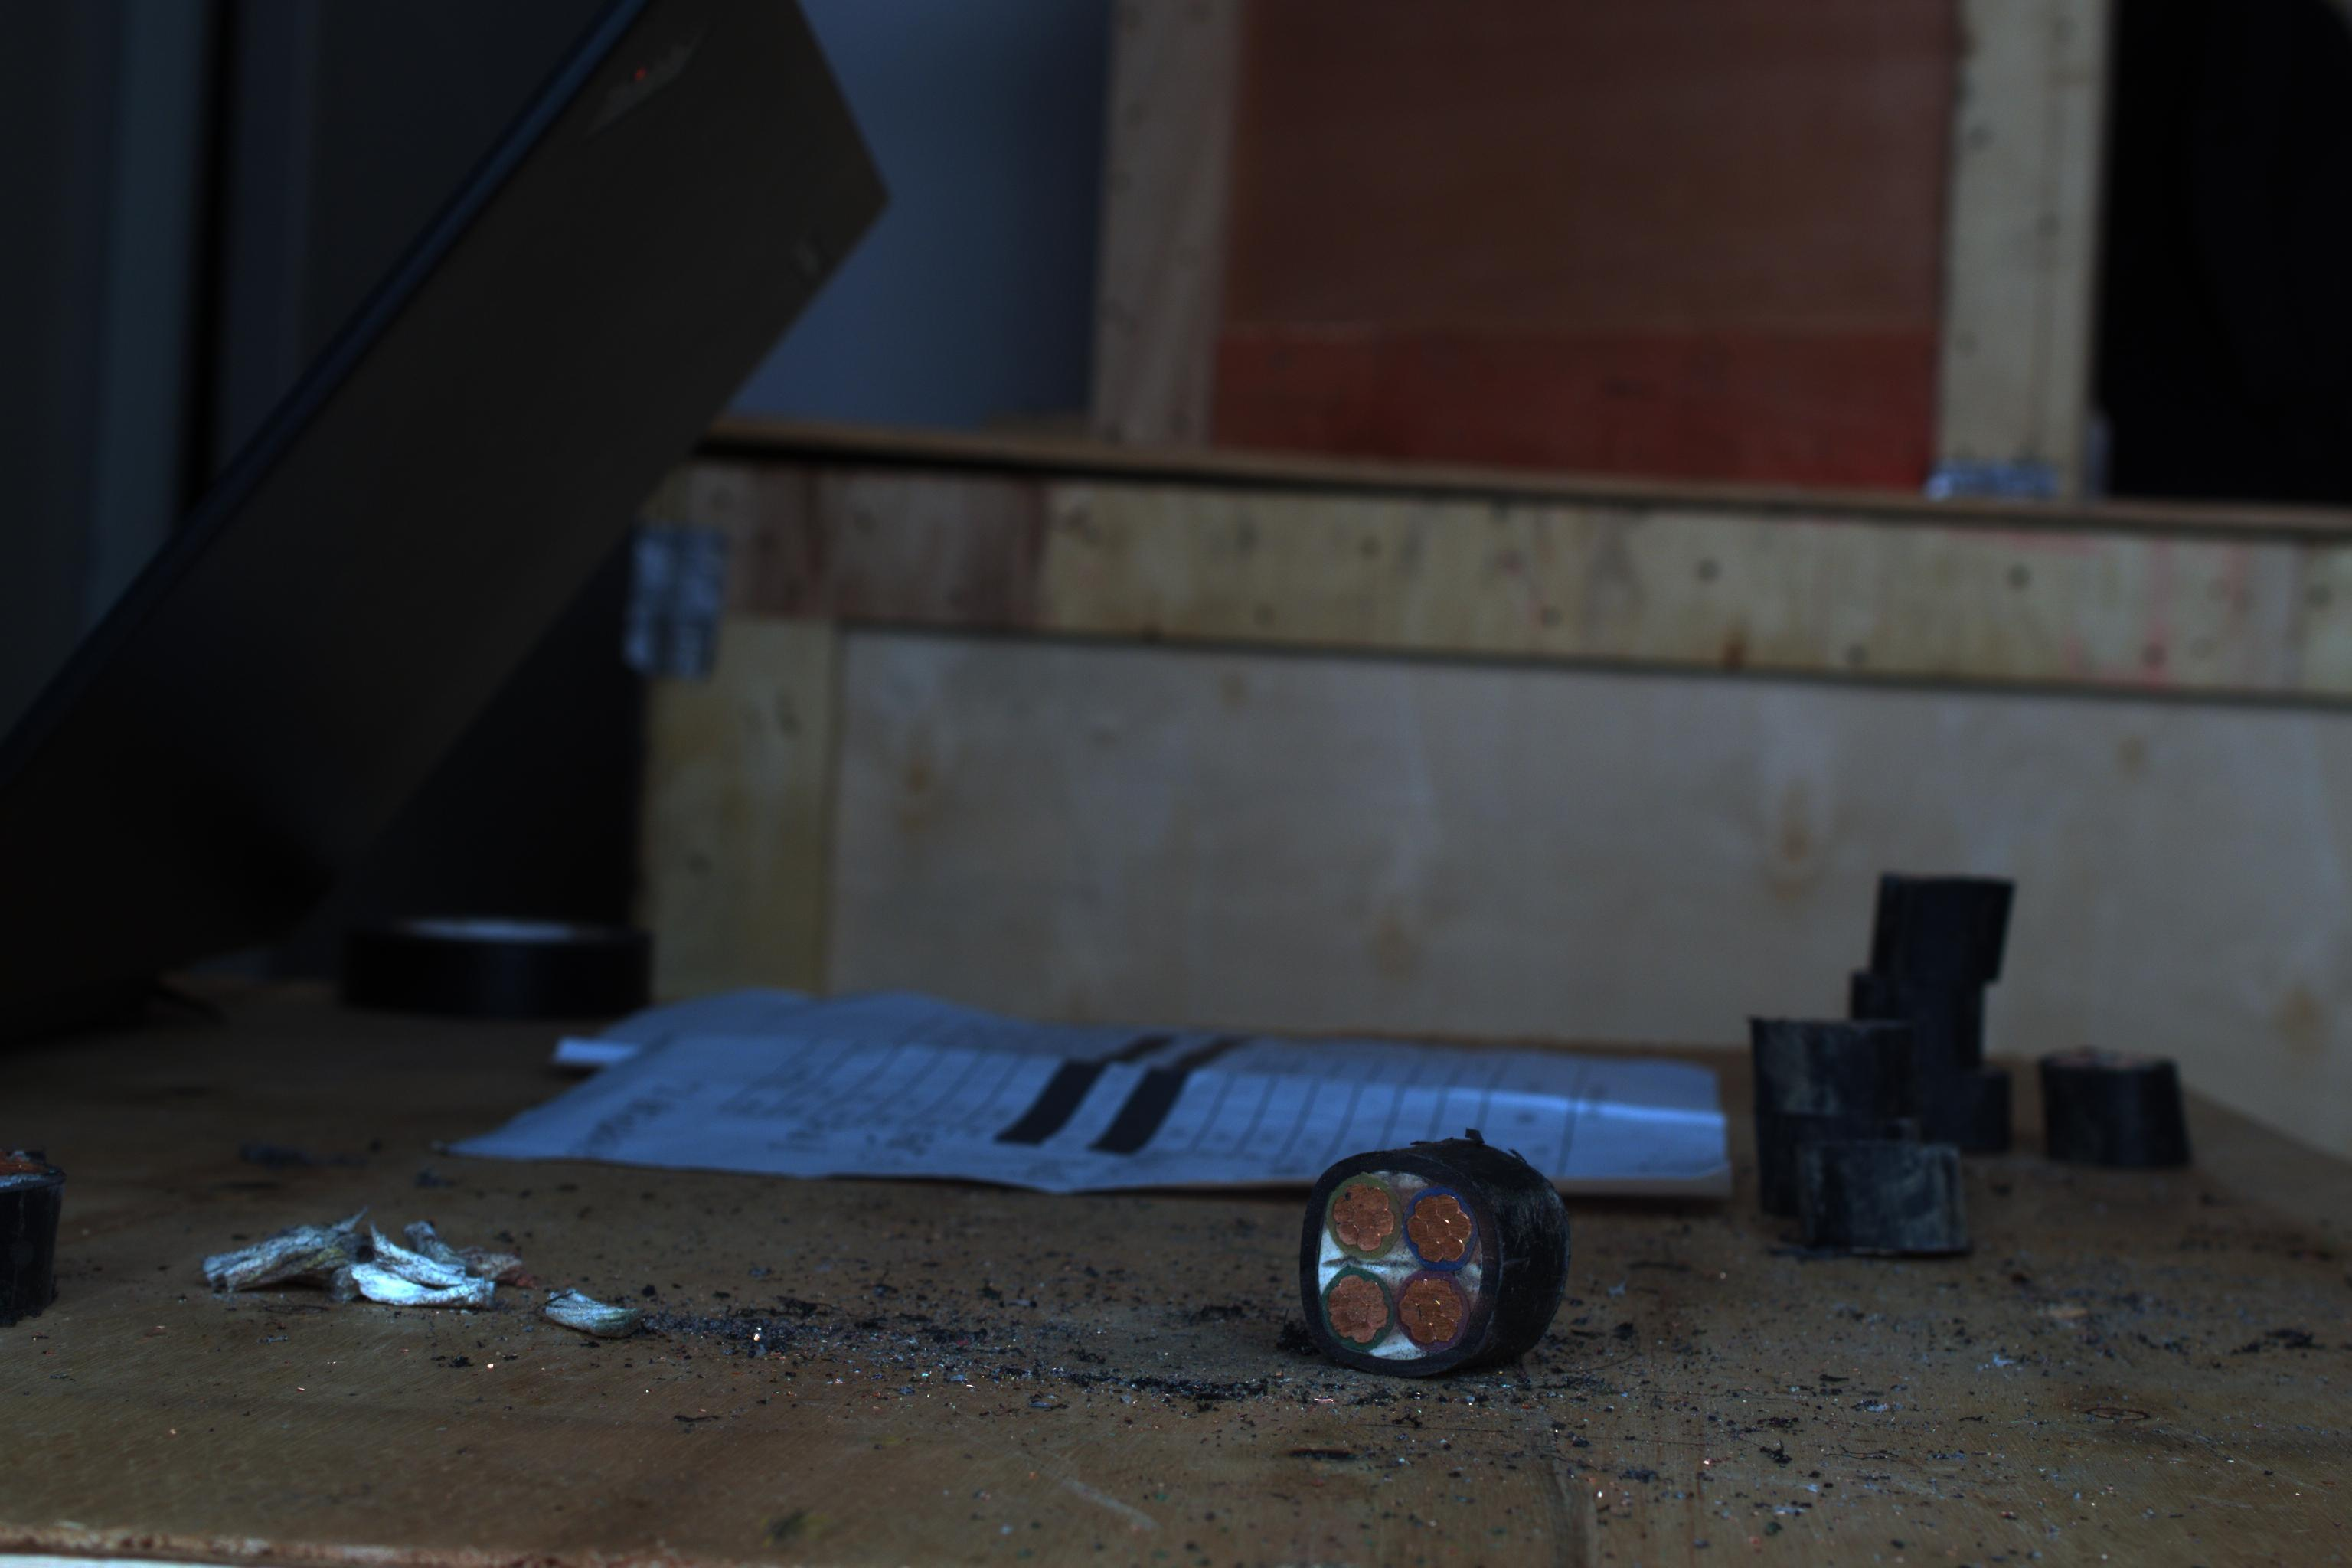YJV_0.6_1kV_4x35: (1281, 1143, 1526, 1363)
